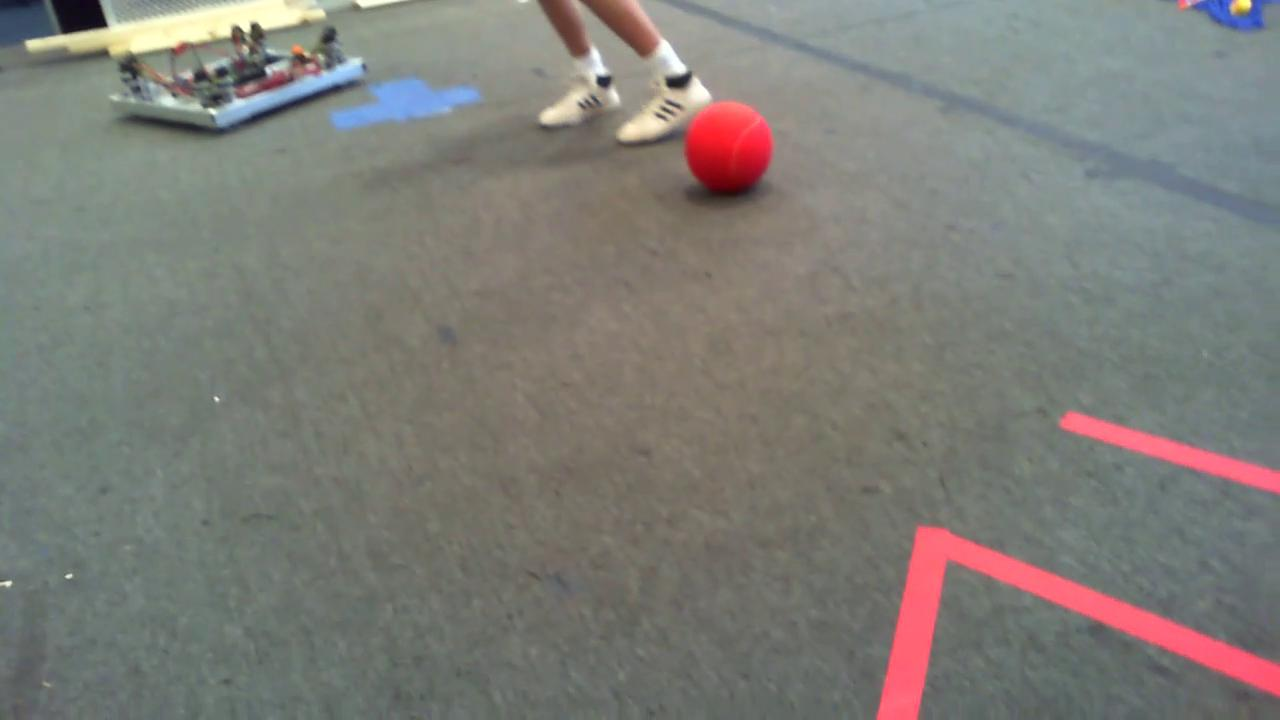Red_Ball: (674, 85, 779, 188)
